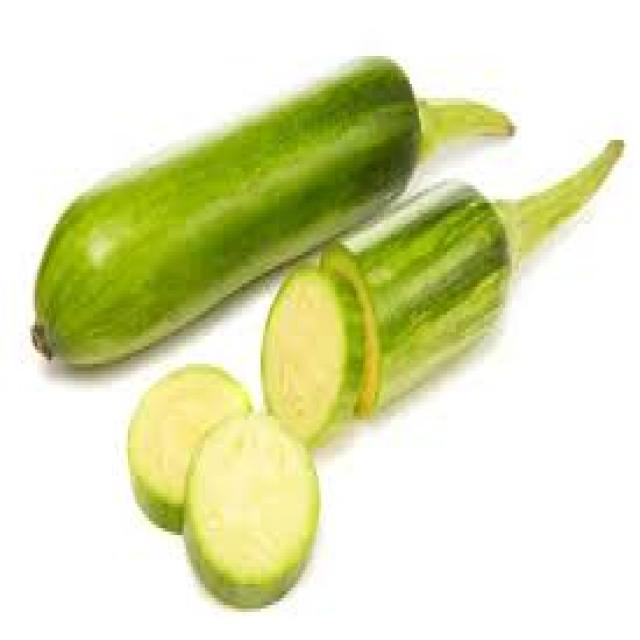yogurt: (33, 56, 517, 365)
